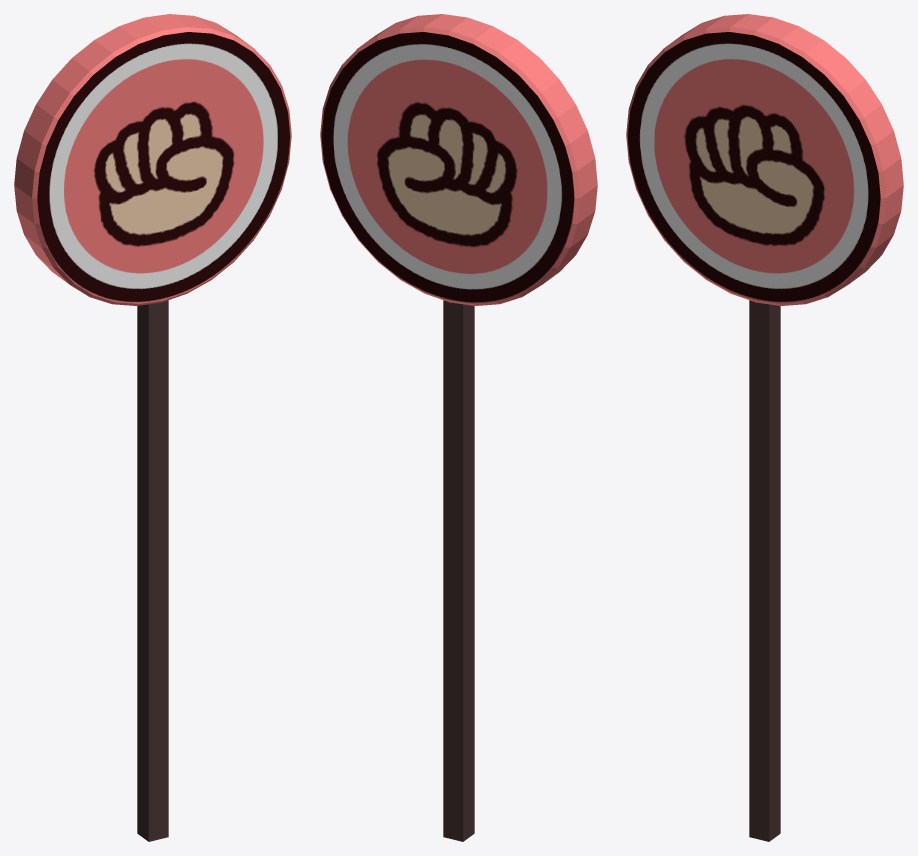
Rendered from hand.glb.
3 views of the same model, side by side, from view 1: azimuth 30°, elevation 25°; view 2: azimuth 150°, elevation 25°; view 3: azimuth 330°, elevation 25° (orthographic).
Parts seen in each view (by area): view 1: 円柱, Cube; view 2: 円柱, Cube; view 3: 円柱, Cube.
Part boxes in pixels (x1,y1,x2,y2): 円柱: [14, 14, 291, 305]; Cube: [137, 300, 168, 841]; 円柱: [320, 14, 597, 305]; Cube: [443, 300, 474, 841]; 円柱: [626, 14, 903, 305]; Cube: [749, 300, 780, 841].
Size of the model in its own units: 3.66 by 10.92 by 0.5259.
8 materials, 4 textured.
